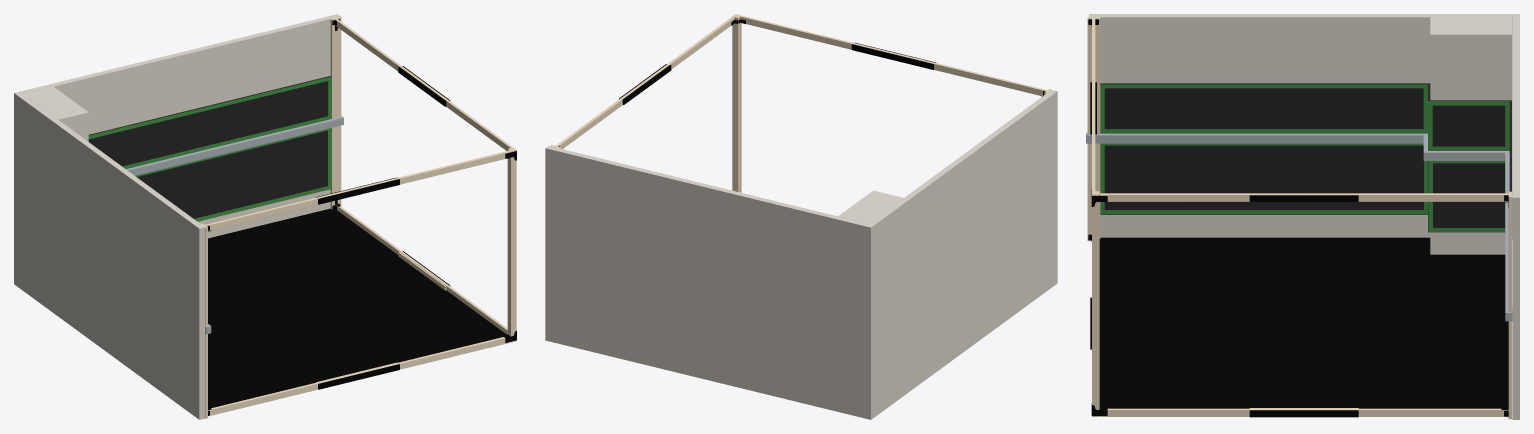
Rendered from droneEnclosure.FBX.
The picture shows the model from 3 angles, left to right: view 1: azimuth 30°, elevation 25°; view 2: azimuth 150°, elevation 25°; view 3: azimuth 270°, elevation 25°; orthographic projection. The views are drawn at different scales.
Parts seen in each view (by area): view 1: droneEnclosure; view 2: droneEnclosure; view 3: droneEnclosure.
Part boxes in pixels (bbox=[...]): droneEnclosure: bbox=[14, 14, 516, 419]; droneEnclosure: bbox=[545, 14, 1057, 419]; droneEnclosure: bbox=[1086, 14, 1519, 419].
Size of what is drawn, in the model's own units: 486 by 485 by 274.
